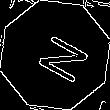N_NW: (23, 26, 87, 84)
